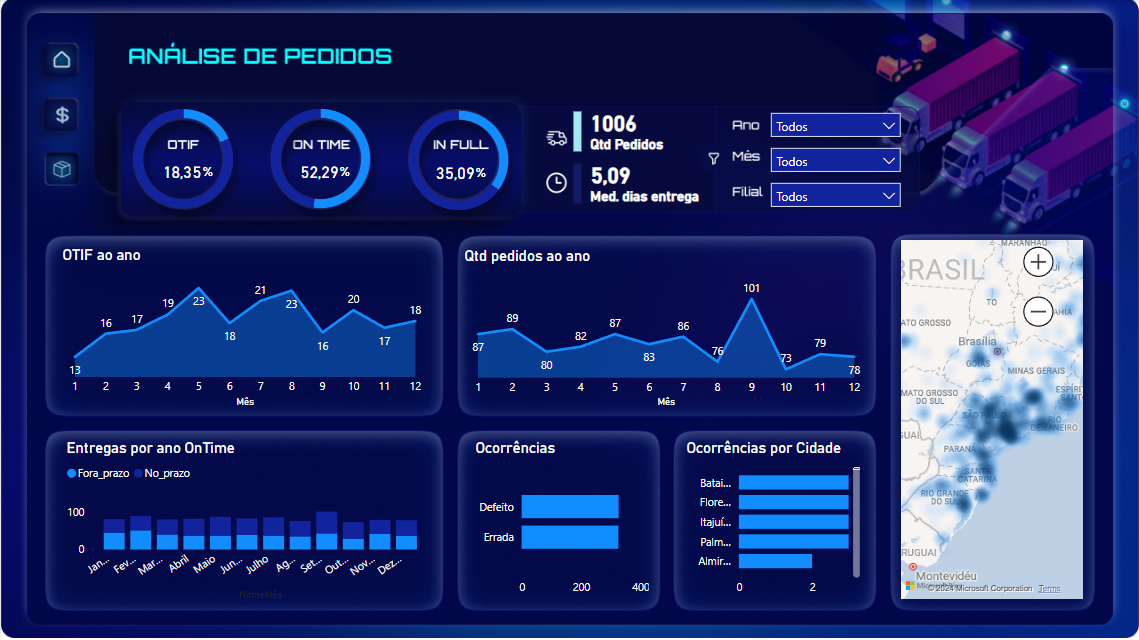

What the dashboard file says about the page in this screenshot:
{"tool":"powerbi","page":{"name":"Pedidos","canvas":[1280,720],"ordinal":2},"visuals":[{"type":"actionButton","box":[49.5,47.2,39.4,39.4],"z":0},{"type":"actionButton","box":[49.5,111.4,39.4,39.4],"z":1000},{"type":"slicer","fields":{"Values":["dCalendario.Ano"]},"box":[856.6,117.5,165.5,44],"z":2000},{"type":"slicer","fields":{"Values":["dCalendario.NomeMês"]},"box":[856.6,156.8,165.5,44],"z":3000},{"type":"slicer","fields":{"Values":["MOCK_DATA.cidade"]},"box":[856.6,196.2,165.5,44],"z":4000},{"type":"donutChart","fields":{"Y":["Medidas.OTIF","Medidas.OTIF-1"]},"box":[130.8,90.8,149.5,174.8],"z":5000},{"type":"map","fields":{"Category":["MOCK_DATA.cidade"],"Size":["Sum(MOCK_DATA.Quantidade)"]},"box":[1007.6,265.5,214,412.8],"z":6000},{"type":"multiRowCard","fields":{"Values":["Sum(MOCK_DATA.Quantidade)"]},"box":[639.3,120.9,189,68.1],"z":7000},{"type":"multiRowCard","fields":{"Values":["Avg(MOCK_DATA.dias para entrega)"]},"box":[639.3,179.3,189,68.1],"z":8000},{"type":"areaChart","title":"Qtd pedidos ao ano","fields":{"Y":["Sum(MOCK_DATA.quantidade)"],"Category":["dCalendario.Mês"]},"box":[516.6,277.6,463.9,185.1],"z":9000},{"type":"card","fields":{"Values":["Medidas.OTIF"]},"box":[165.4,175.3,76.5,38.2],"z":10000},{"type":"textbox","box":[221.6,178.6,66.4,55.1],"z":11000},{"type":"donutChart","fields":{"Y":["Medidas.ONTIME","Medidas.ONTIME-1"]},"box":[284.6,91.1,149.6,174.4],"z":12000},{"type":"textbox","box":[375.3,179.2,66.4,55.1],"z":13000},{"type":"card","fields":{"Values":["Medidas.ONTIME"]},"box":[319,175.8,76.5,38.2],"z":14000},{"type":"textbox","box":[528.8,180.4,66.4,55.1],"z":15000},{"type":"card","fields":{"Values":["Medidas.INFULL"]},"box":[472.5,177,76.5,38.2],"z":16000},{"type":"donutChart","fields":{"Y":["Medidas.INFULL","Medidas.INFULL-1"]},"box":[440,93.1,149.9,174.1],"z":17000},{"type":"barChart","title":"Ocorrências","fields":{"Category":["MOCK_DATA.Ocorrencia"],"Y":["Sum(MOCK_DATA.quantidade)"]},"box":[528.2,494.4,205.5,184.9],"z":18000},{"type":"barChart","title":"Ocorrências por Cidade","fields":{"Y":["Sum(MOCK_DATA.quantidade)"],"Category":["MOCK_DATA.cidade"]},"box":[766.3,494.4,205.5,184.9],"z":19000},{"type":"columnChart","title":"Entregas por ano OnTime","fields":{"Category":["dCalendario.NomeMês"],"Y":["CountNonNull(MOCK_DATA.entrega)"],"Series":["MOCK_DATA.entrega"]},"box":[69,494.2,416.6,185.3],"z":20000},{"type":"areaChart","title":"OTIF ao ano","fields":{"Category":["dCalendario.Mês"],"Y":["Medidas.OTIF"]},"box":[64.6,277.3,420.9,185.3],"z":21000}]}

Visuals, with their boxes in screenshot pixels (x1, y1, x2, y2), scaled from the page's 1280x720 canvas onto the 1139x640 screenshot:
actionButton: <bbox>44, 42, 79, 77</bbox>
actionButton: <bbox>44, 99, 79, 134</bbox>
slicer - dCalendario.Ano: <bbox>762, 104, 910, 144</bbox>
slicer - dCalendario.NomeMês: <bbox>762, 139, 910, 178</bbox>
slicer - MOCK_DATA.cidade: <bbox>762, 174, 910, 214</bbox>
donutChart - Medidas.OTIF x Medidas.OTIF-1: <bbox>116, 81, 249, 236</bbox>
map - MOCK_DATA.cidade x Sum(MOCK_DATA.Quantidade): <bbox>897, 236, 1087, 603</bbox>
multiRowCard - Sum(MOCK_DATA.Quantidade): <bbox>569, 107, 737, 168</bbox>
multiRowCard - Avg(MOCK_DATA.dias para entrega): <bbox>569, 159, 737, 220</bbox>
"Qtd pedidos ao ano" areaChart: <bbox>460, 247, 872, 411</bbox>
card - Medidas.OTIF: <bbox>147, 156, 215, 190</bbox>
textbox: <bbox>197, 159, 256, 208</bbox>
donutChart - Medidas.ONTIME x Medidas.ONTIME-1: <bbox>253, 81, 386, 236</bbox>
textbox: <bbox>334, 159, 393, 208</bbox>
card - Medidas.ONTIME: <bbox>284, 156, 352, 190</bbox>
textbox: <bbox>471, 160, 530, 209</bbox>
card - Medidas.INFULL: <bbox>420, 157, 489, 191</bbox>
donutChart - Medidas.INFULL x Medidas.INFULL-1: <bbox>392, 83, 525, 238</bbox>
"Ocorrências" barChart: <bbox>470, 439, 653, 604</bbox>
"Ocorrências por Cidade" barChart: <bbox>682, 439, 865, 604</bbox>
"Entregas por ano OnTime" columnChart: <bbox>61, 439, 432, 604</bbox>
"OTIF ao ano" areaChart: <bbox>57, 246, 432, 411</bbox>
